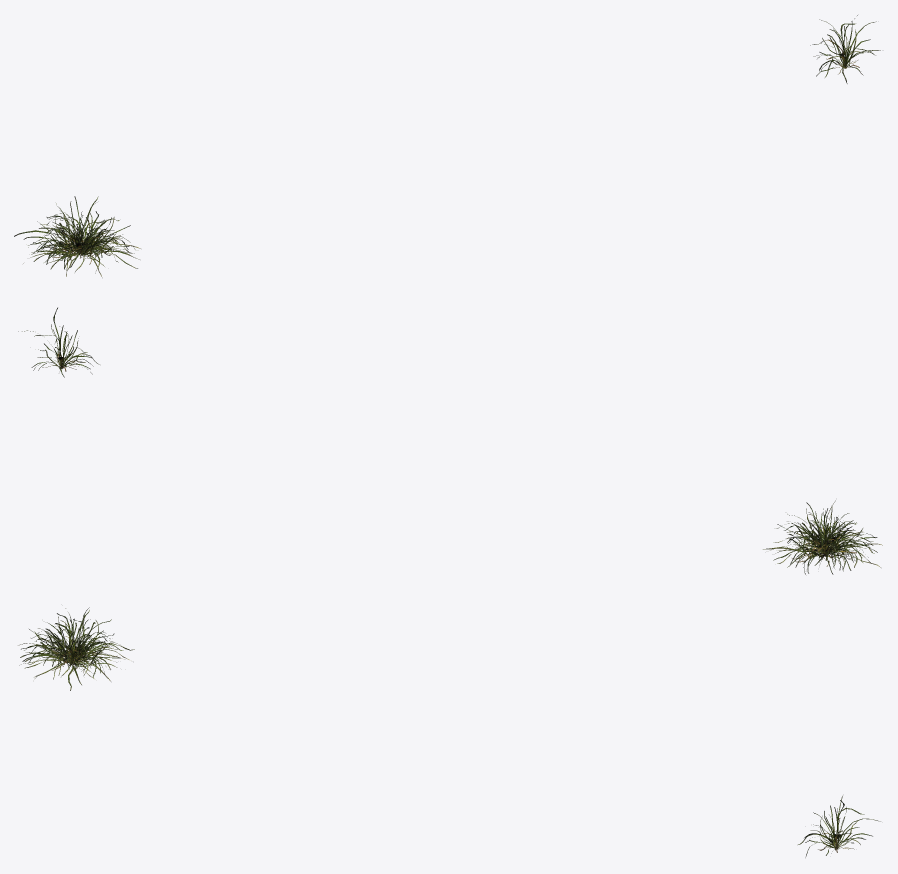
File: roman-grass_medium_01.glb
The picture shows the model from 3 angles, top to bottom: view 1: azimuth 30°, elevation 25°; view 2: azimuth 150°, elevation 25°; view 3: azimuth 330°, elevation 25°; orthographic projection.
Visible parts, largest first — view 1: grass_medium_01_large_b_LOD0, grass_medium_01_small_a_LOD0; view 2: grass_medium_01_large_b_LOD0, grass_medium_01_small_a_LOD0; view 3: grass_medium_01_large_b_LOD0, grass_medium_01_small_a_LOD0.
Boxes of the visible parts, x1,y1,x2,y2 form: grass_medium_01_large_b_LOD0: [14, 196, 140, 277]; grass_medium_01_small_a_LOD0: [810, 15, 880, 83]; grass_medium_01_large_b_LOD0: [763, 500, 882, 574]; grass_medium_01_small_a_LOD0: [18, 307, 99, 377]; grass_medium_01_large_b_LOD0: [18, 607, 134, 690]; grass_medium_01_small_a_LOD0: [798, 796, 880, 857].
Bounding box in the file's own units: 2.25 × 0.1693 × 0.2757.
Materials: 1 (1 with a texture image).
